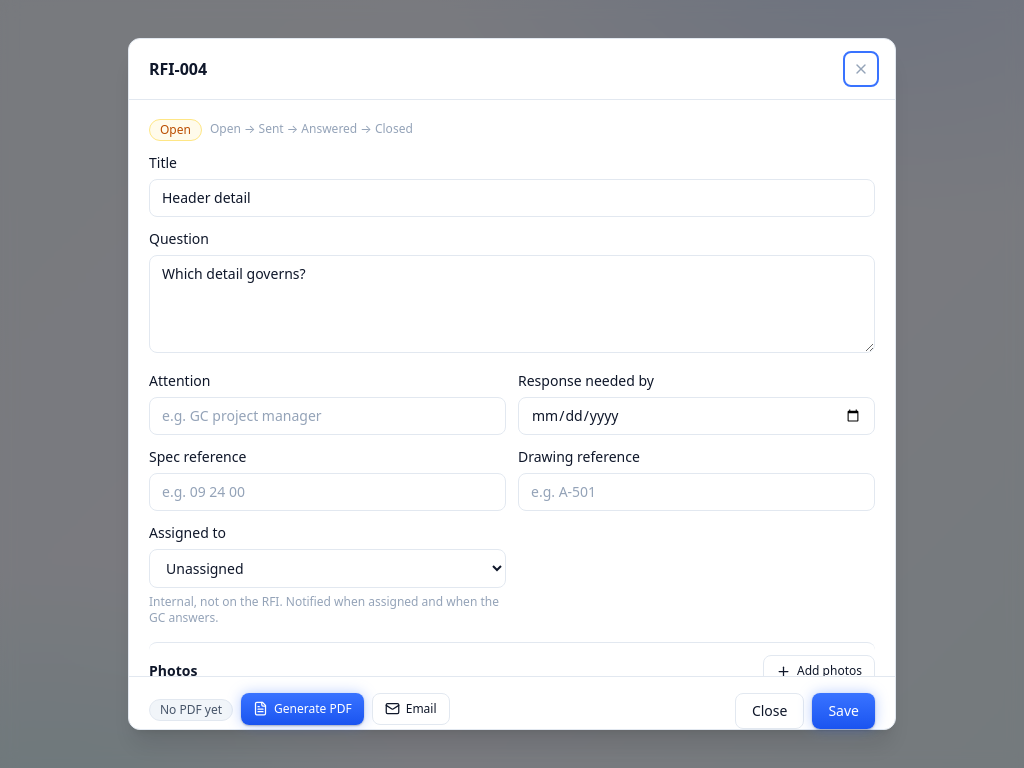
Test: RfiEditor — PDF attachments › refuses a PDF while the form is dirty, and says why
Replace the text in the field labelled "Title" with "Typed title" at (512, 198), box [149,179,875,217]
(page scrolled)
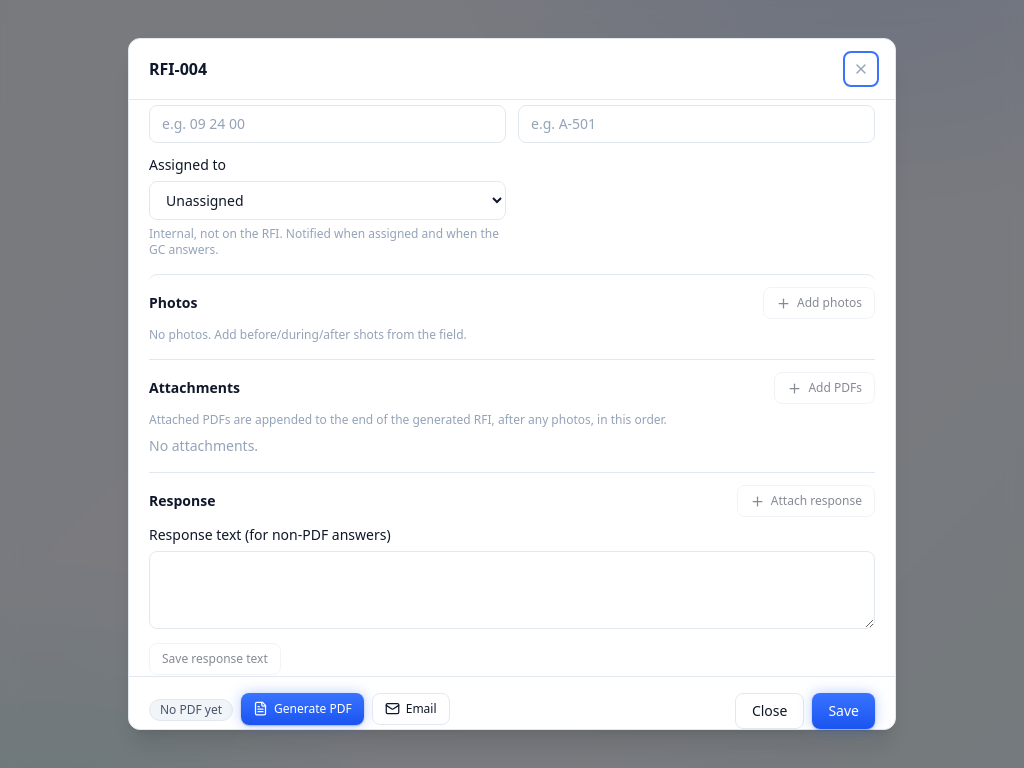
Now the button "Add PDFs" is disabled, box [774,372,875,404]
